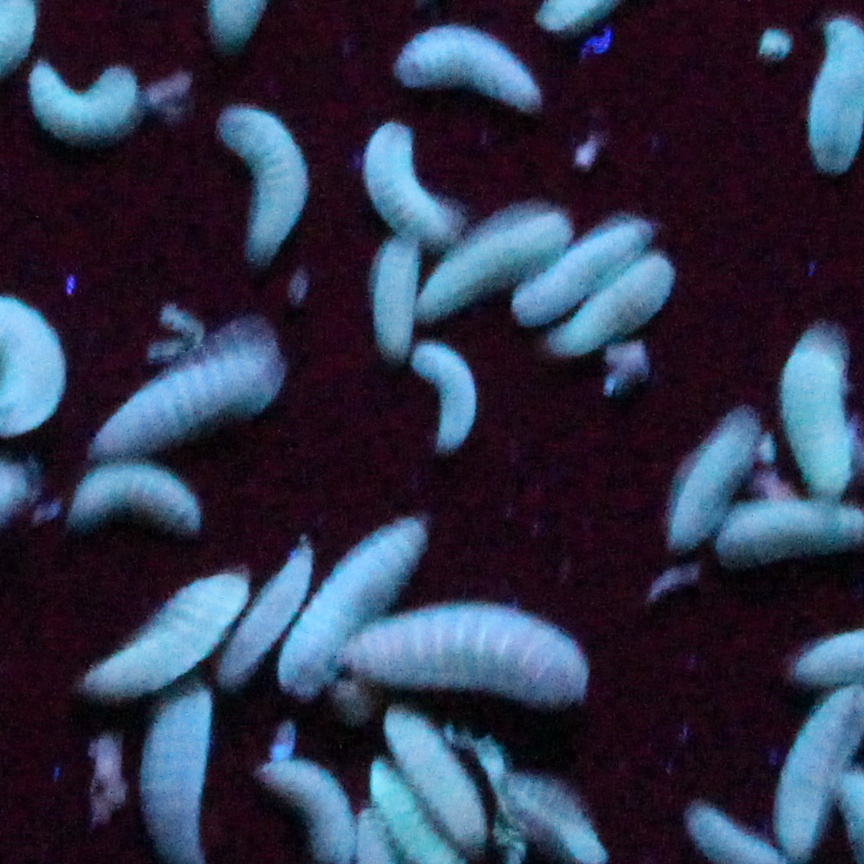larve: (273, 511, 431, 690), (342, 596, 592, 707), (90, 317, 292, 448), (71, 567, 256, 692), (419, 203, 573, 317), (208, 540, 312, 682), (379, 711, 485, 846), (221, 105, 310, 263), (521, 215, 652, 319), (550, 255, 679, 355), (365, 121, 465, 248), (671, 409, 760, 546), (396, 28, 542, 111), (781, 326, 848, 501), (492, 773, 610, 863), (67, 461, 202, 528), (33, 63, 140, 138), (415, 342, 479, 455), (369, 238, 421, 357)
